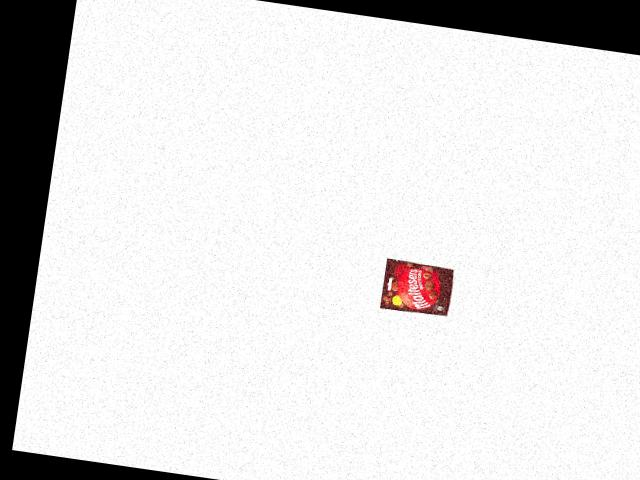chocolate: (378, 257, 456, 318)
